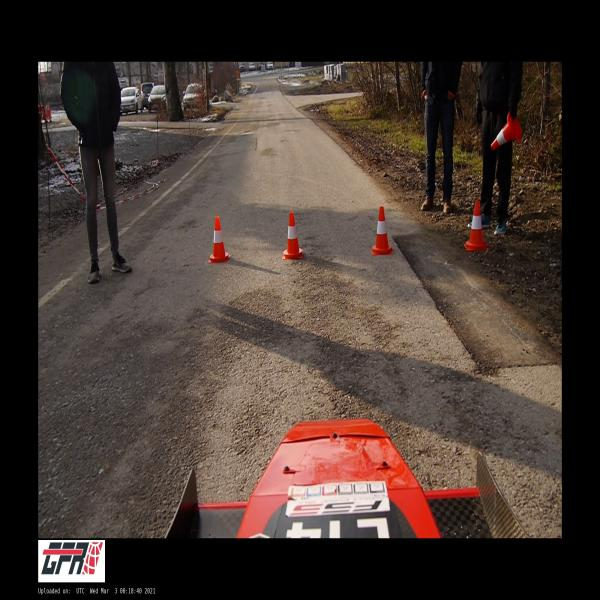orange_cone: (490, 110, 522, 150), (464, 201, 489, 251), (208, 217, 231, 262), (282, 212, 304, 259), (372, 206, 392, 255)
